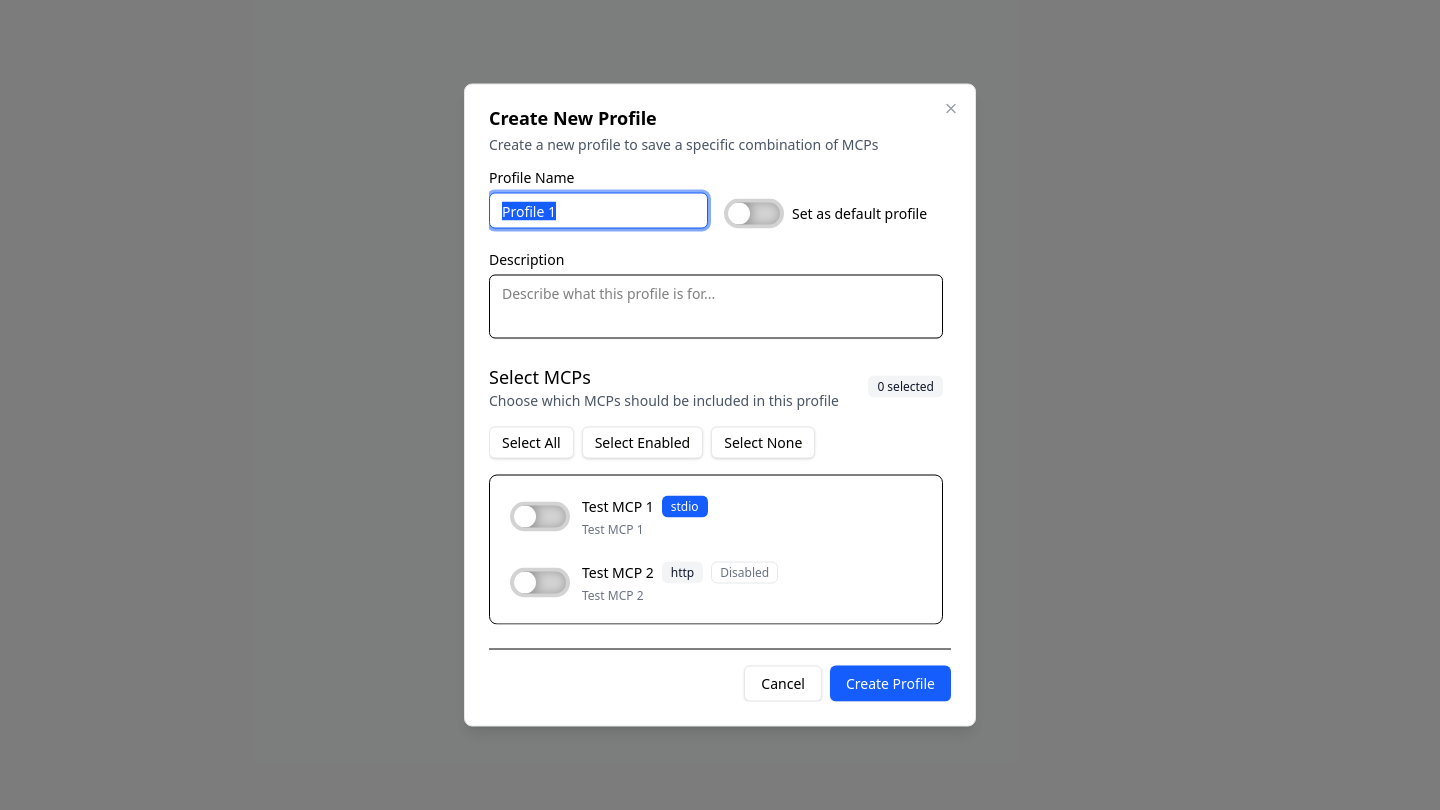
Scenario: ProfileDialog Component › MCP Selection › should handle Select Enabled functionality
Click the button "Select Enabled": {"x": 642, "y": 442} top-left (582, 426), bottom-right (703, 458)
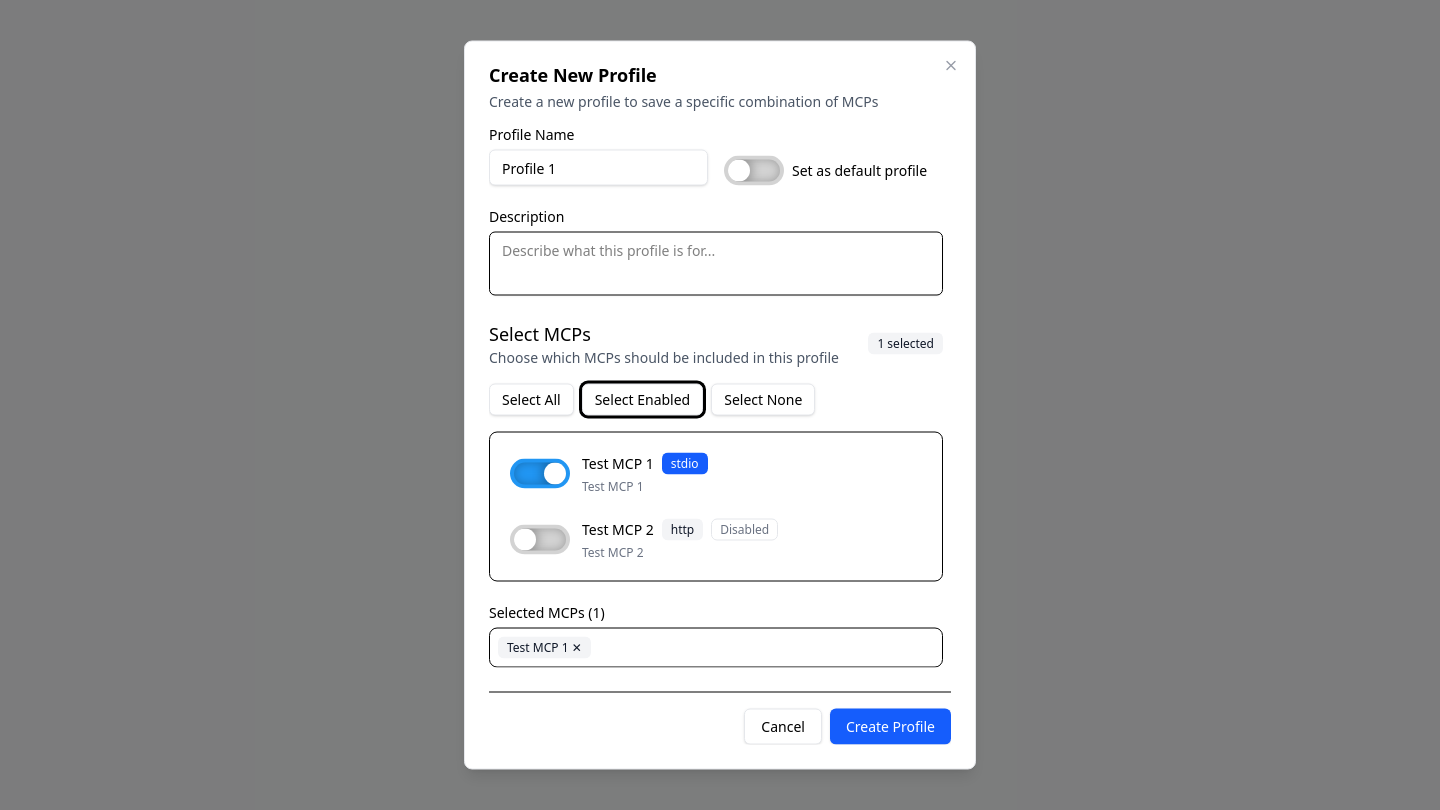
Result: the text "1 selected" is shown at top-left (868, 332), bottom-right (943, 354)
